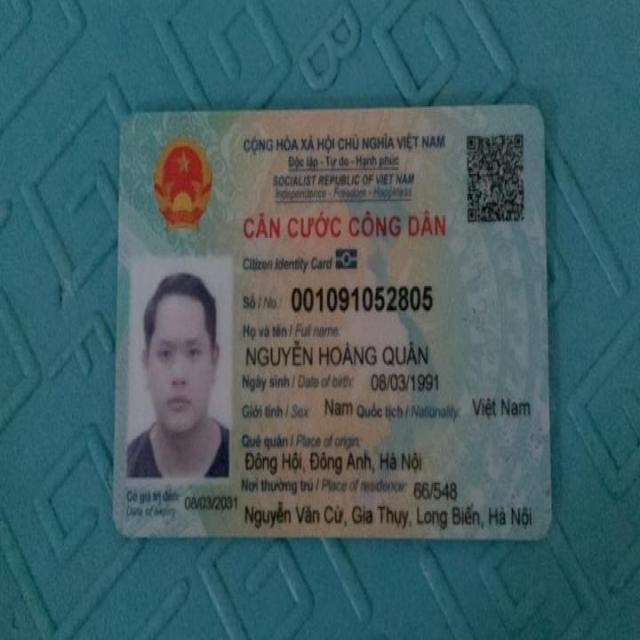bottom_left: (94, 506, 139, 550)
bottom_right: (516, 505, 560, 557)
image_person: (128, 260, 232, 482)
top_left: (98, 96, 146, 144)
top_right: (514, 90, 560, 139)
